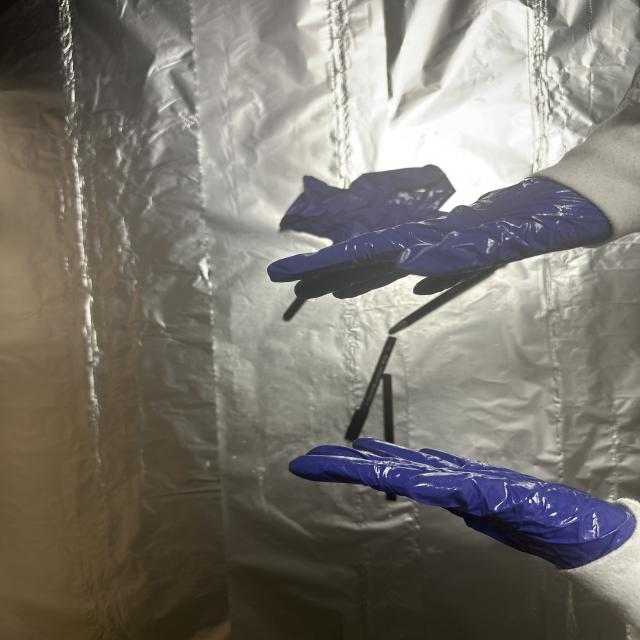gloves_contaminated: (291, 440, 635, 569), (268, 178, 612, 297)
